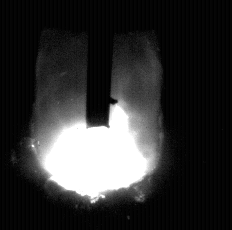arame: (87, 0, 111, 129)
poca: (31, 0, 165, 230)
